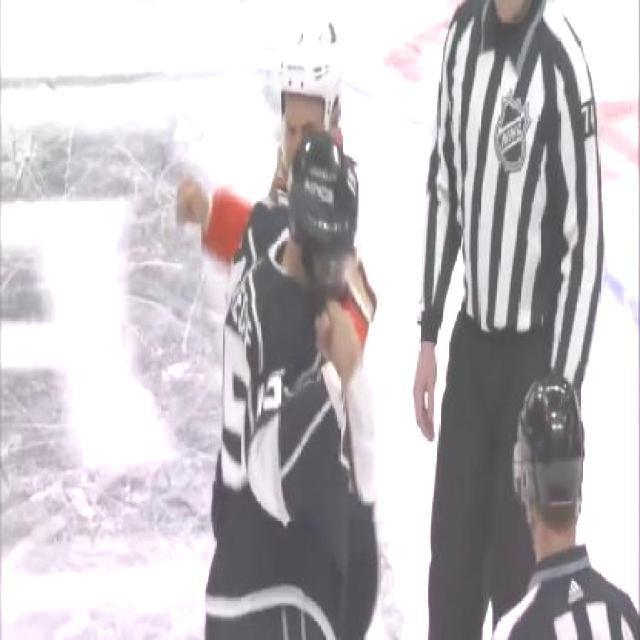fight: (175, 2, 388, 640)
